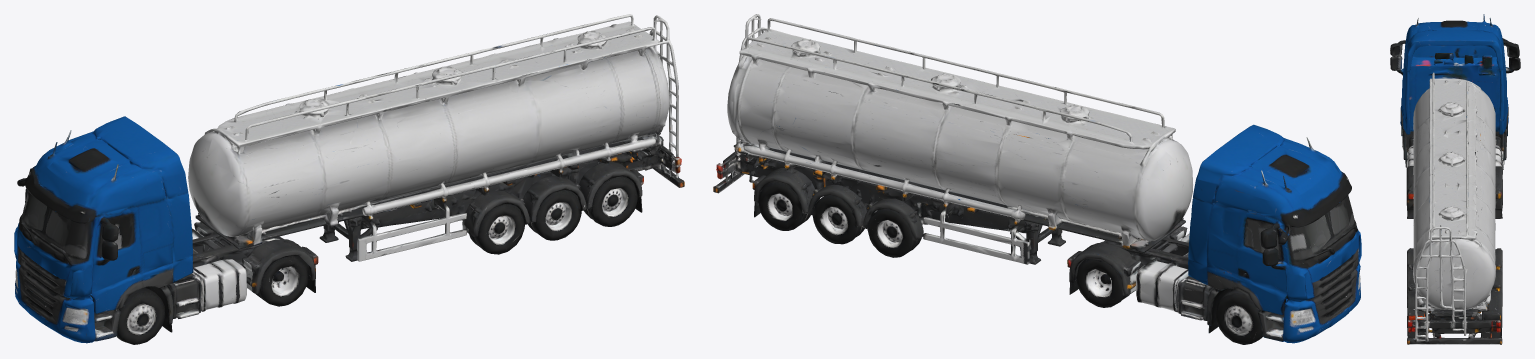
The model's file is M16-tanker-truck.glb.
The picture shows the model from 3 angles, left to right: view 1: azimuth 30°, elevation 25°; view 2: azimuth 150°, elevation 25°; view 3: azimuth 270°, elevation 25°; orthographic projection. The views are drawn at different scales.
Size of the model in its own units: 12 by 3.31 by 2.86.
1 material, 1 textured.
